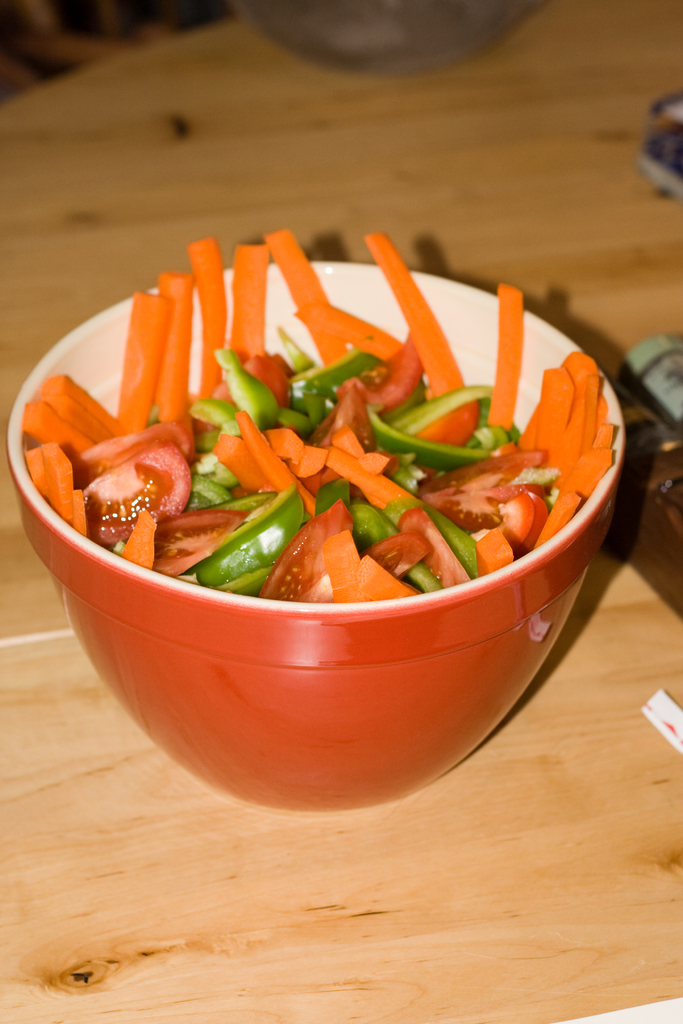salad: (22, 230, 619, 605)
